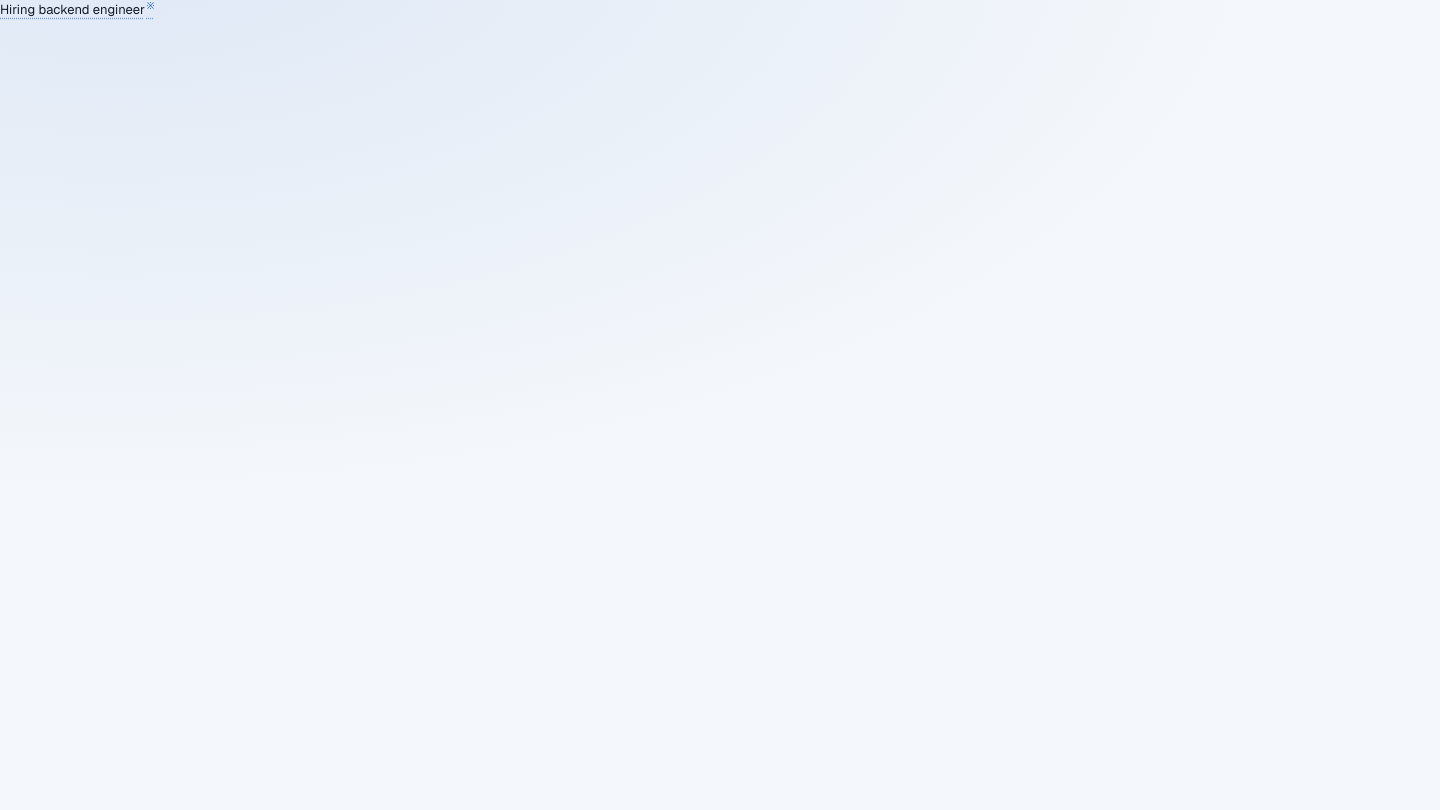
Test: Evidence › shows the source URL as a link, the recorded time, and the cited text once opened
Click the button "Hiring backend engineer" at (77, 10), box 0,0 -> 154,20
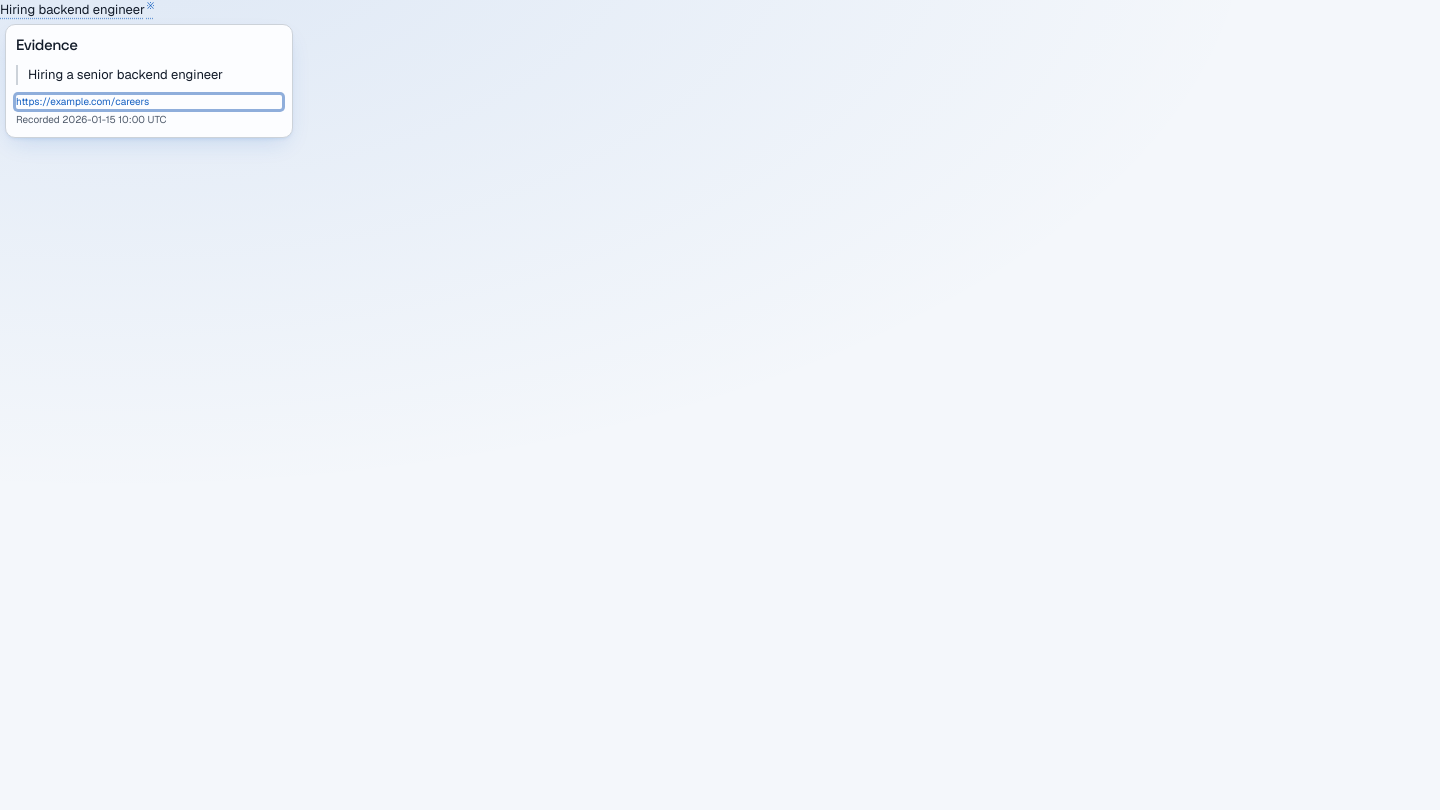
Expected: the text "Hiring a senior backend engineer" is shown, 16,65 -> 282,85
Expected: the text "Recorded 2026-01-15 10:00 UTC" is shown, 16,113 -> 166,126
